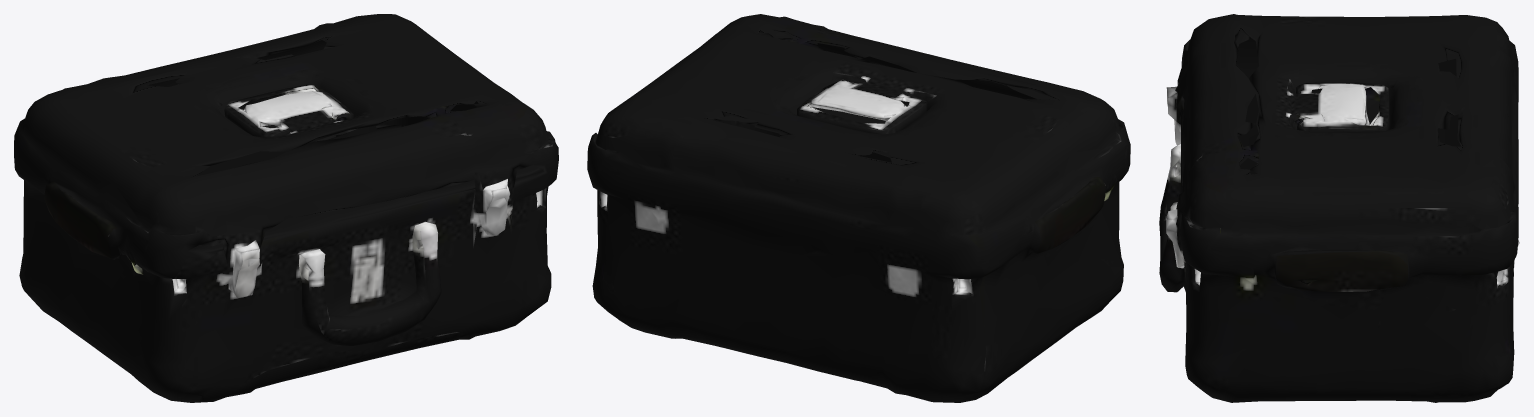
File: dead_drop_case.glb
3 views of the same model, side by side, from view 1: azimuth 30°, elevation 25°; view 2: azimuth 150°, elevation 25°; view 3: azimuth 270°, elevation 25° (orthographic).
Visible parts, largest first — view 1: geometry_0; view 2: geometry_0; view 3: geometry_0.
Boxes of the visible parts, x1=… form: geometry_0: x1=14, y1=14, x2=558, y2=402; geometry_0: x1=587, y1=14, x2=1130, y2=402; geometry_0: x1=1159, y1=14, x2=1519, y2=402.
Size of the model in its own units: 1 by 0.4951 by 0.7221.
1 material, 1 textured.
